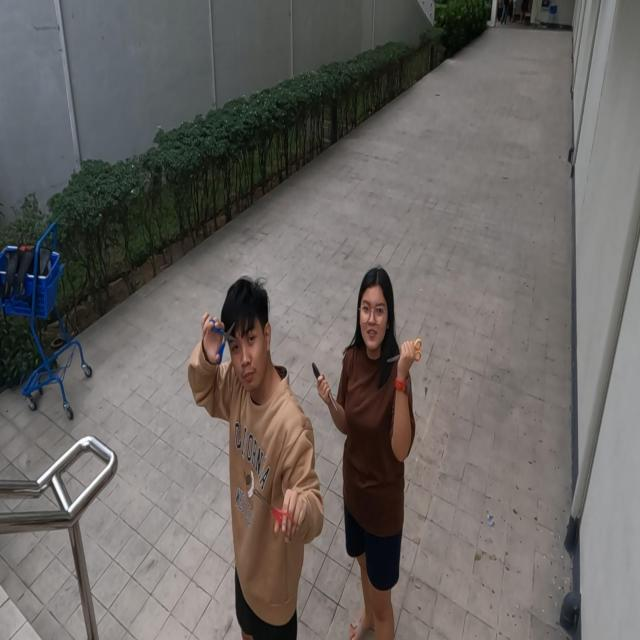scissor: (252, 482, 296, 534), (208, 315, 241, 364), (312, 362, 338, 413), (386, 338, 426, 371)
